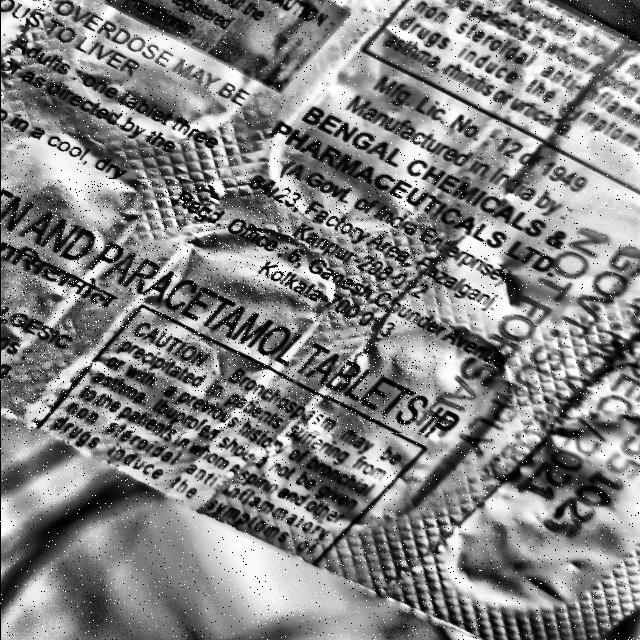IBUPROFEN AND PARACETAMOL TABLETS: (2, 181, 434, 433)
